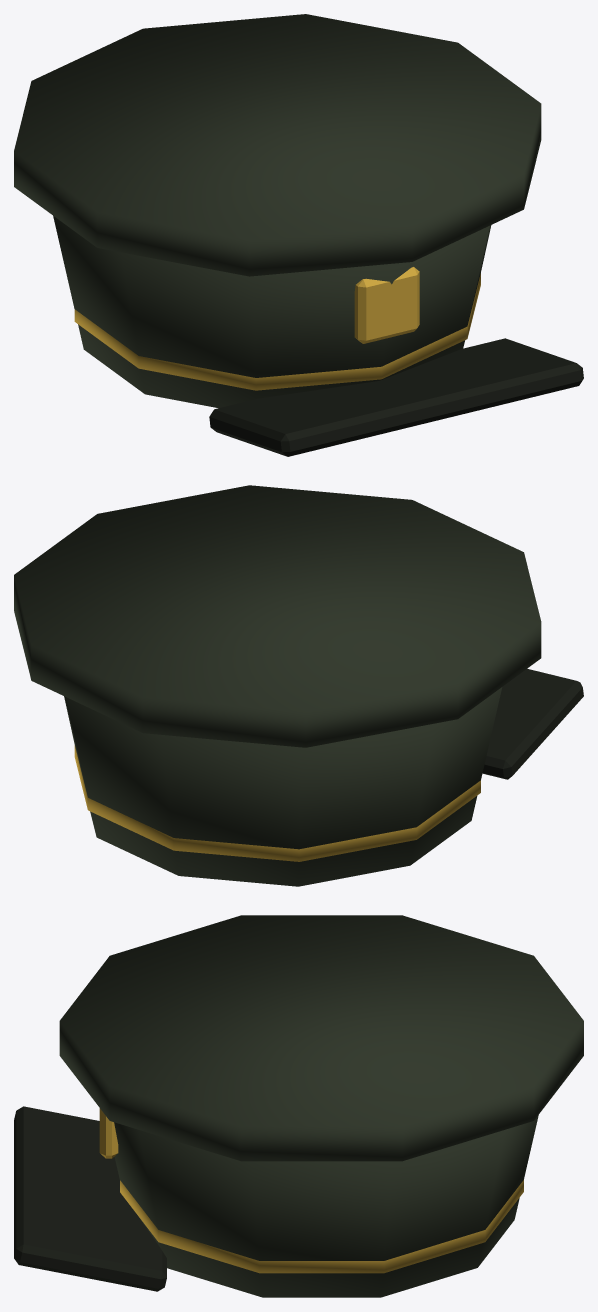
Rendered from officer_cap.glb.
3 views of the same model, one above another, from view 1: azimuth 30°, elevation 25°; view 2: azimuth 150°, elevation 25°; view 3: azimuth 270°, elevation 25° (orthographic). The views are drawn at different scales.
Parts seen in each view (by area): view 1: part.officer_cap; view 2: part.officer_cap; view 3: part.officer_cap.
Part boxes in pixels (x1=…): part.officer_cap: x1=14, y1=14, x2=583, y2=456; part.officer_cap: x1=14, y1=485, x2=583, y2=886; part.officer_cap: x1=14, y1=915, x2=583, y2=1297.
Size of the model in its own units: 0.3234 by 0.1444 by 0.3696.
